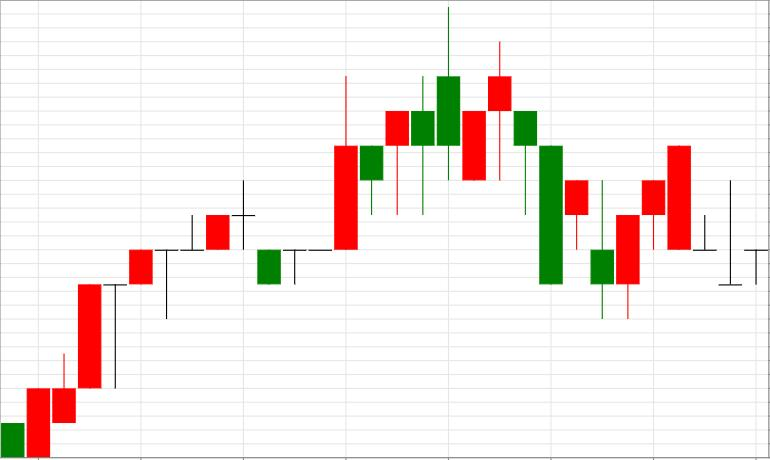hanging_man_fall: (283, 76, 409, 284)
